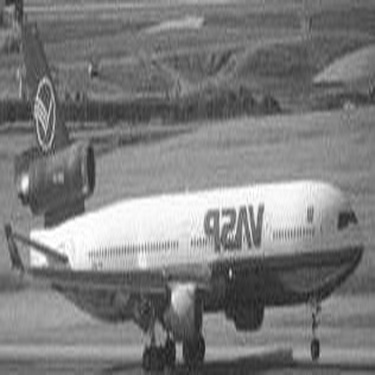airplane: (3, 3, 365, 368)
